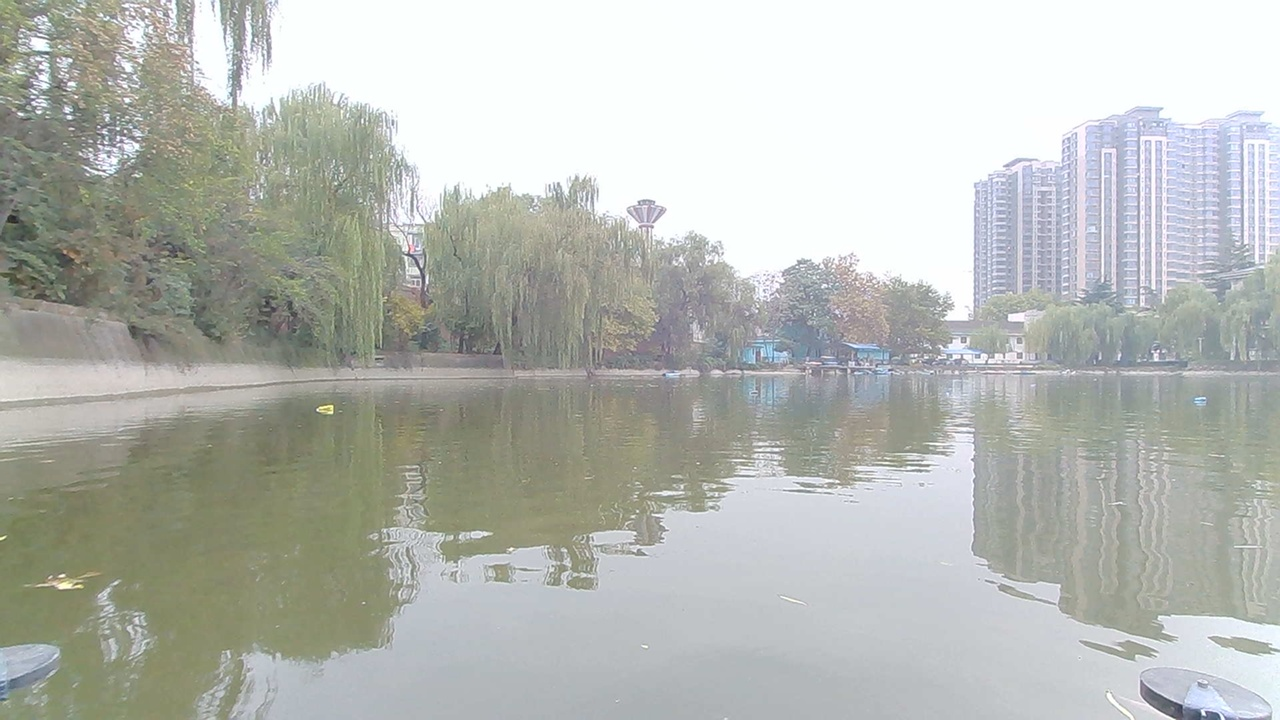bottle: (310, 397, 344, 420), (1185, 388, 1216, 411), (740, 384, 769, 399)
